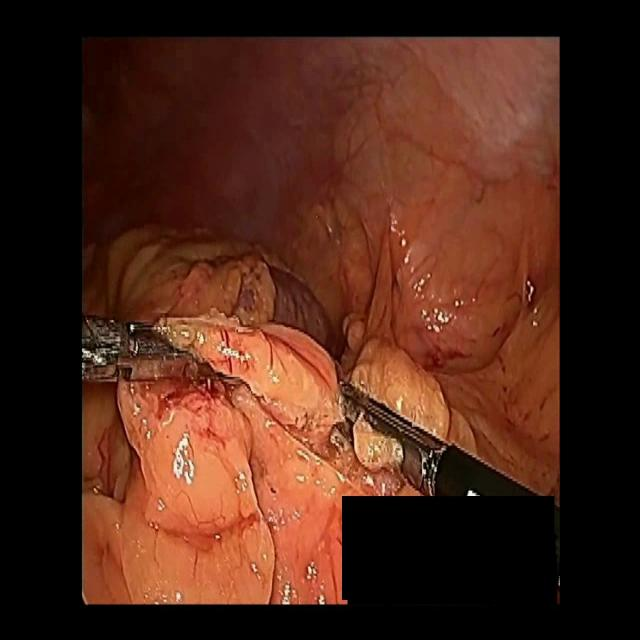surgical-area: (80, 40, 561, 605)
surgical-tool: (336, 381, 543, 500), (80, 315, 240, 386)
